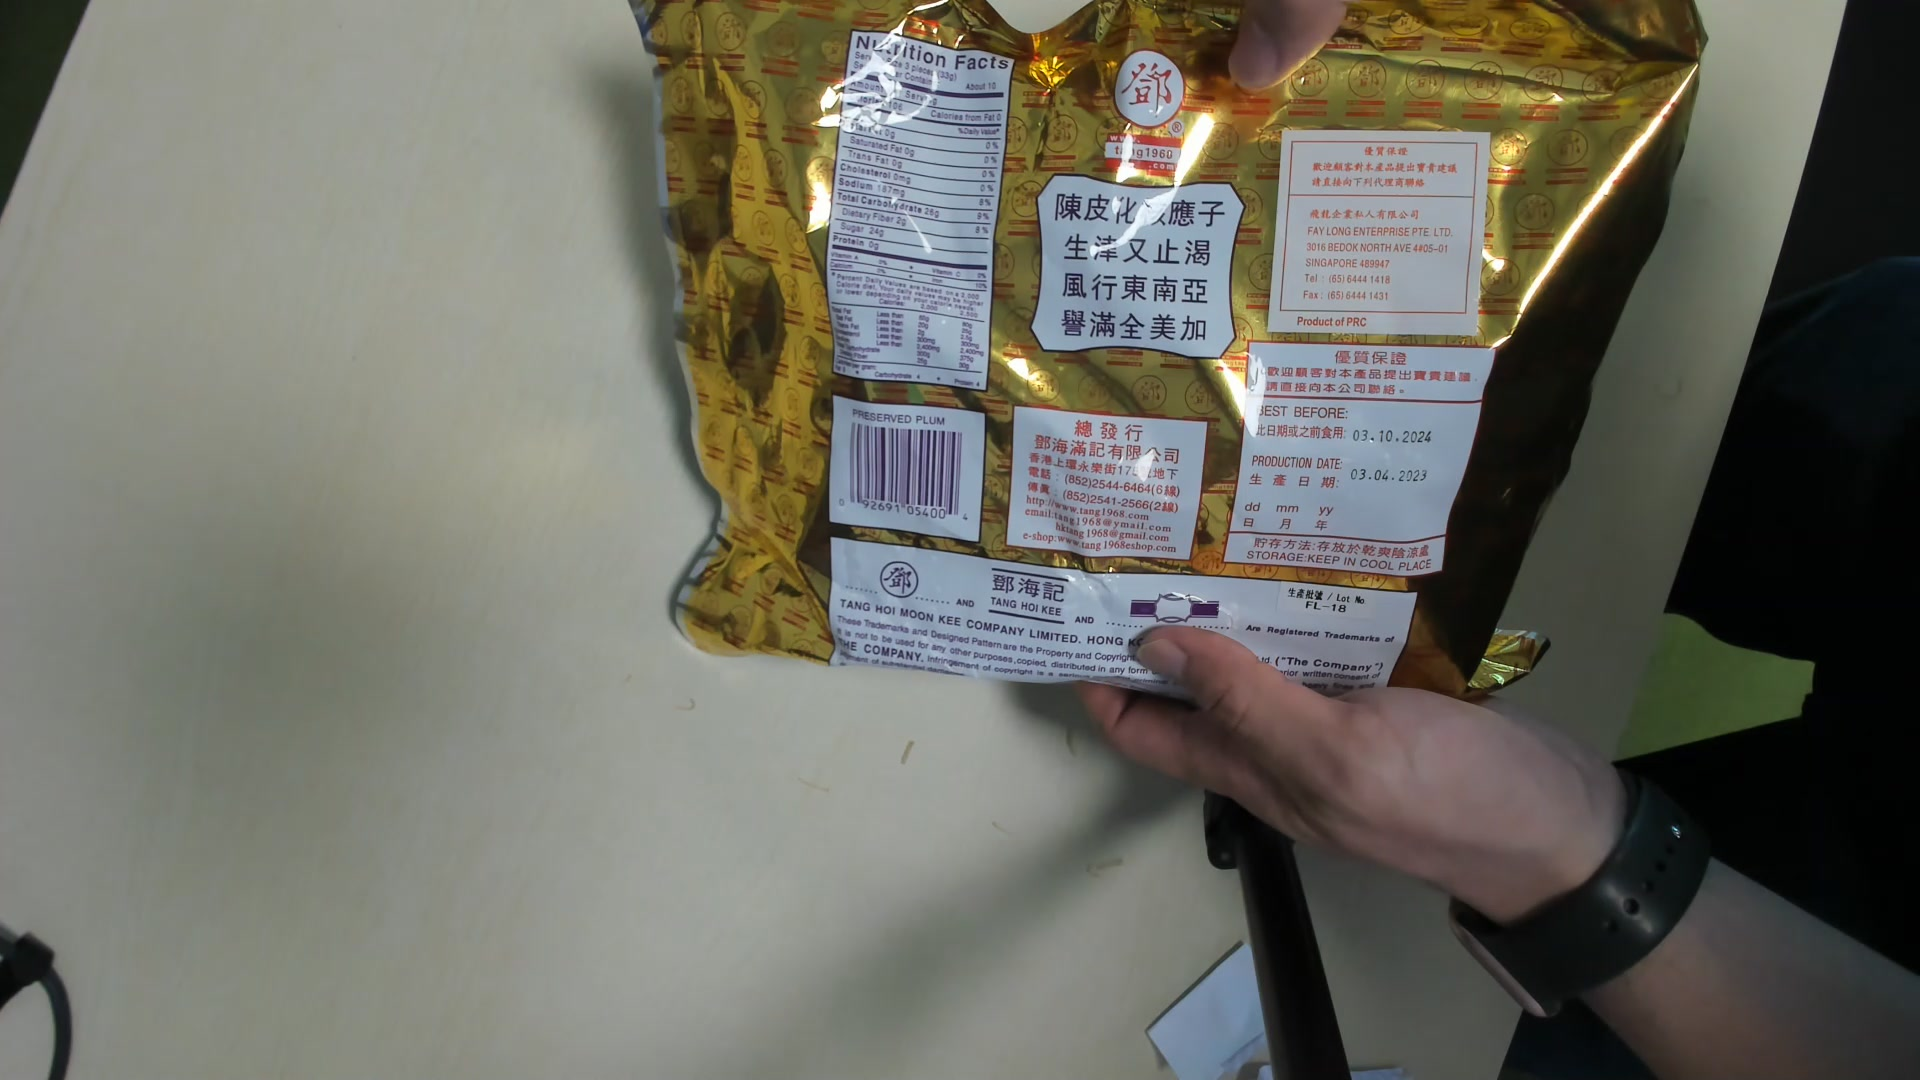SweetsChocolatesOthers_400-499g_NonHalal_Nonhealthy: (636, 1, 1688, 707)
